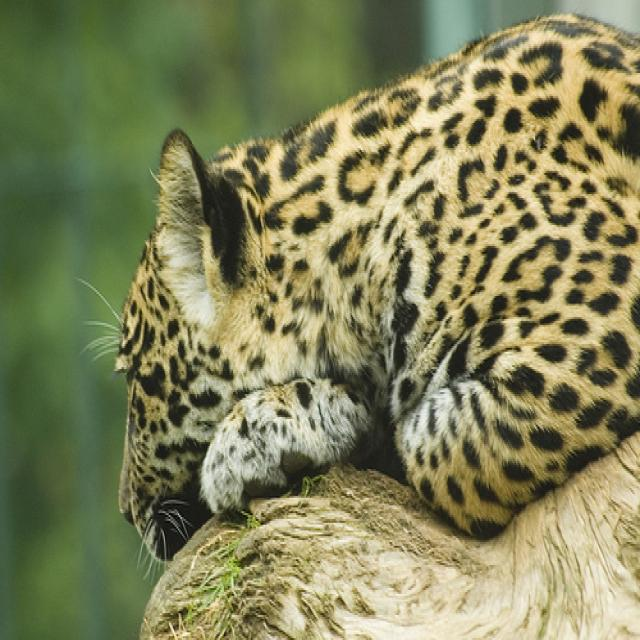Leopard: (74, 6, 636, 580)
